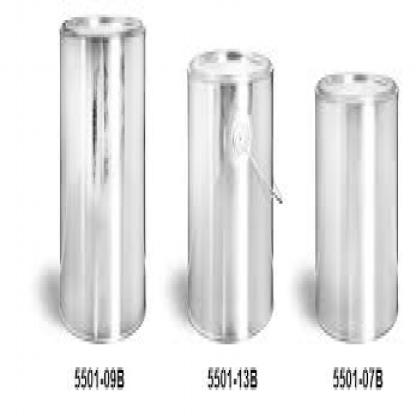METAL: (58, 9, 146, 338), (187, 49, 281, 341), (314, 66, 398, 339)
